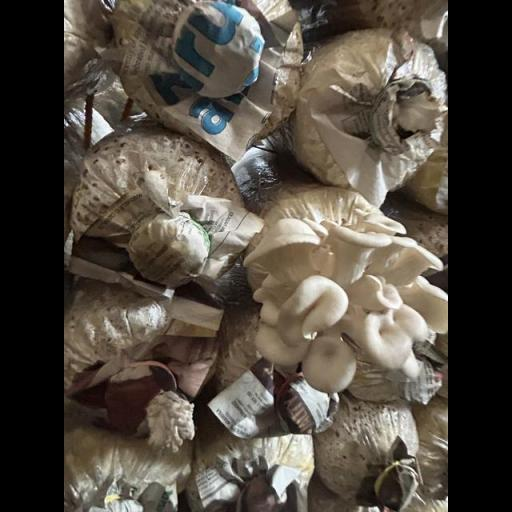White Oyster Mushroom: (240, 205, 449, 395)
